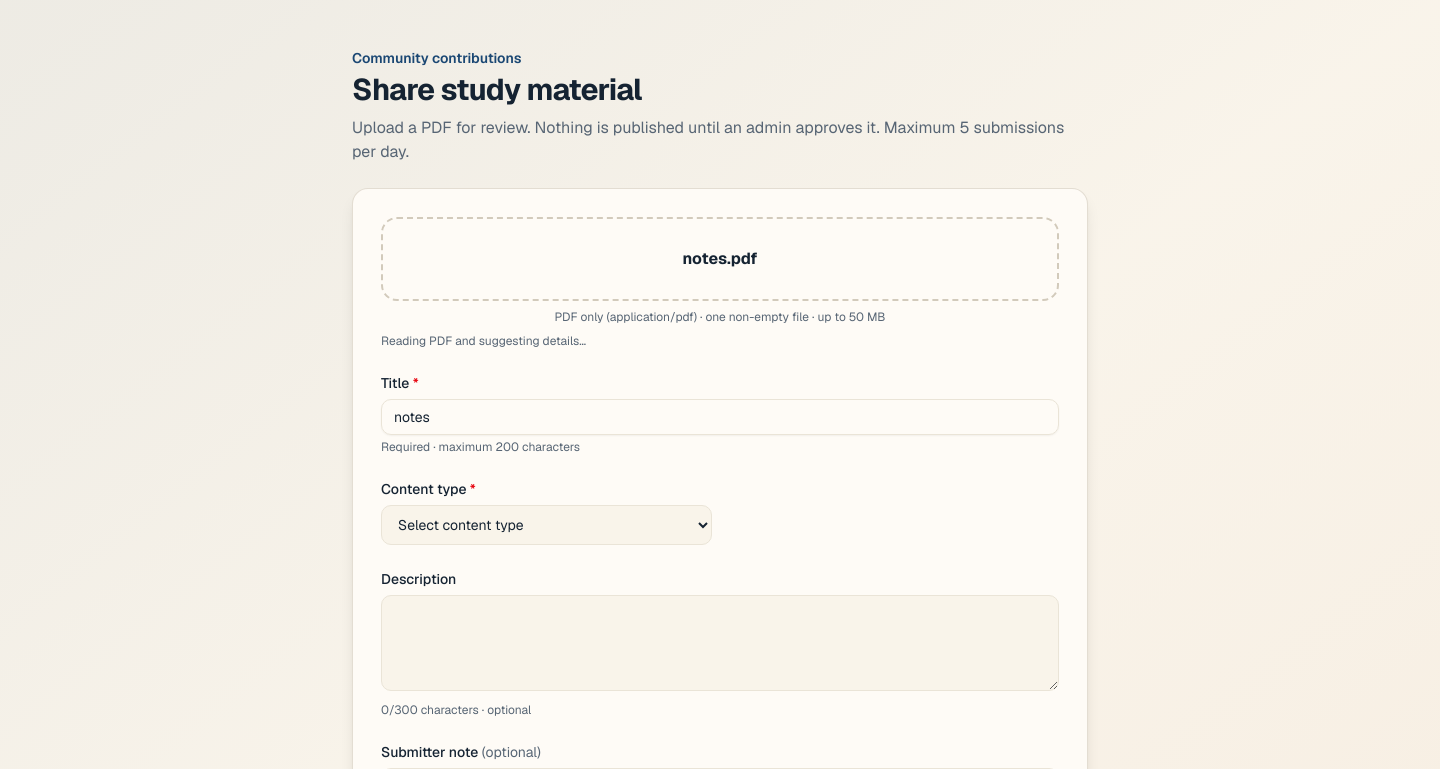
public PDF submission metadata › moves an ambiguous upload recovery 5xx to finalization retry
Earlier steps of the test are not shown.
Select "Exams" in the dropdown labelled "Content type *" at (546, 525), box left=381, top=505, right=712, bottom=545
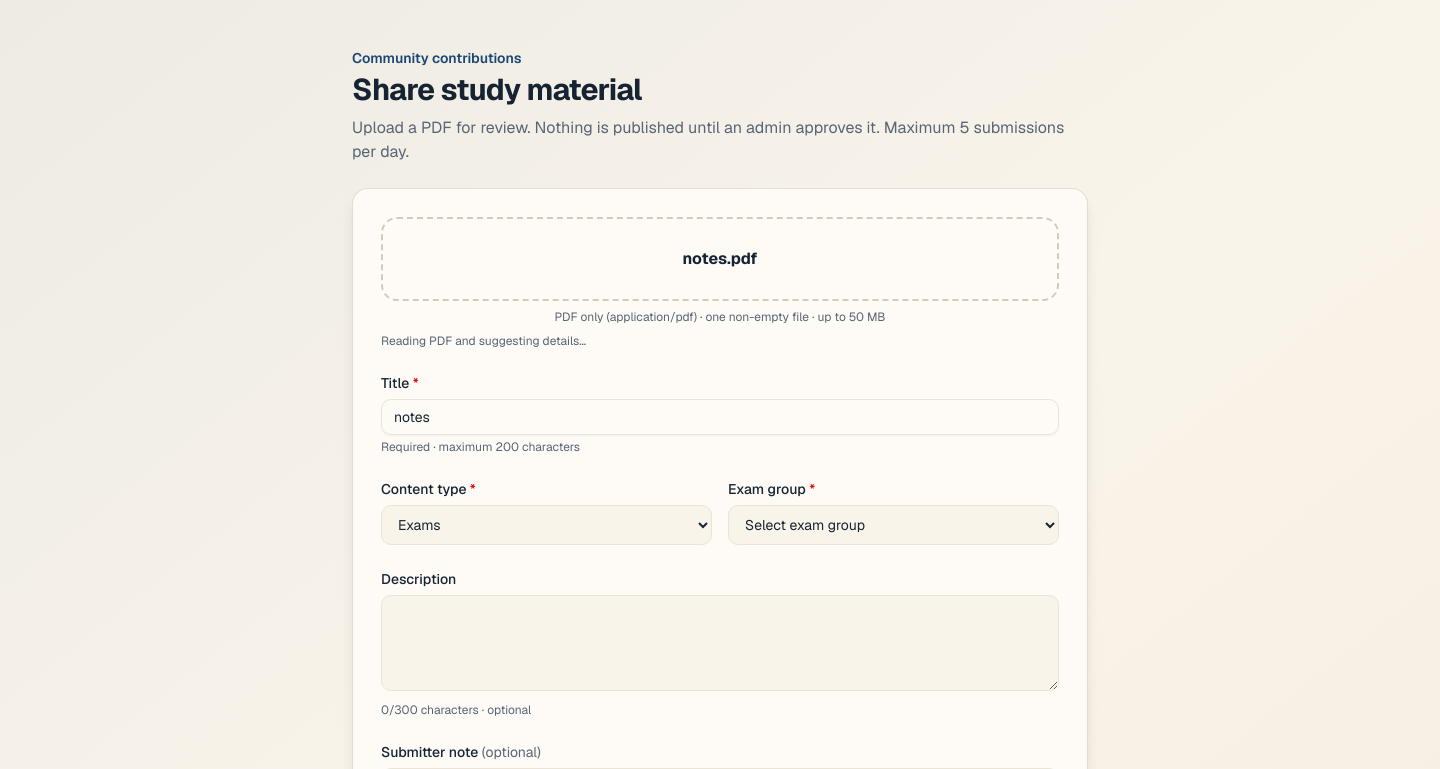
Select "SSC" in the dropdown labelled "Exam group *" at (894, 525), box left=728, top=505, right=1059, bottom=545
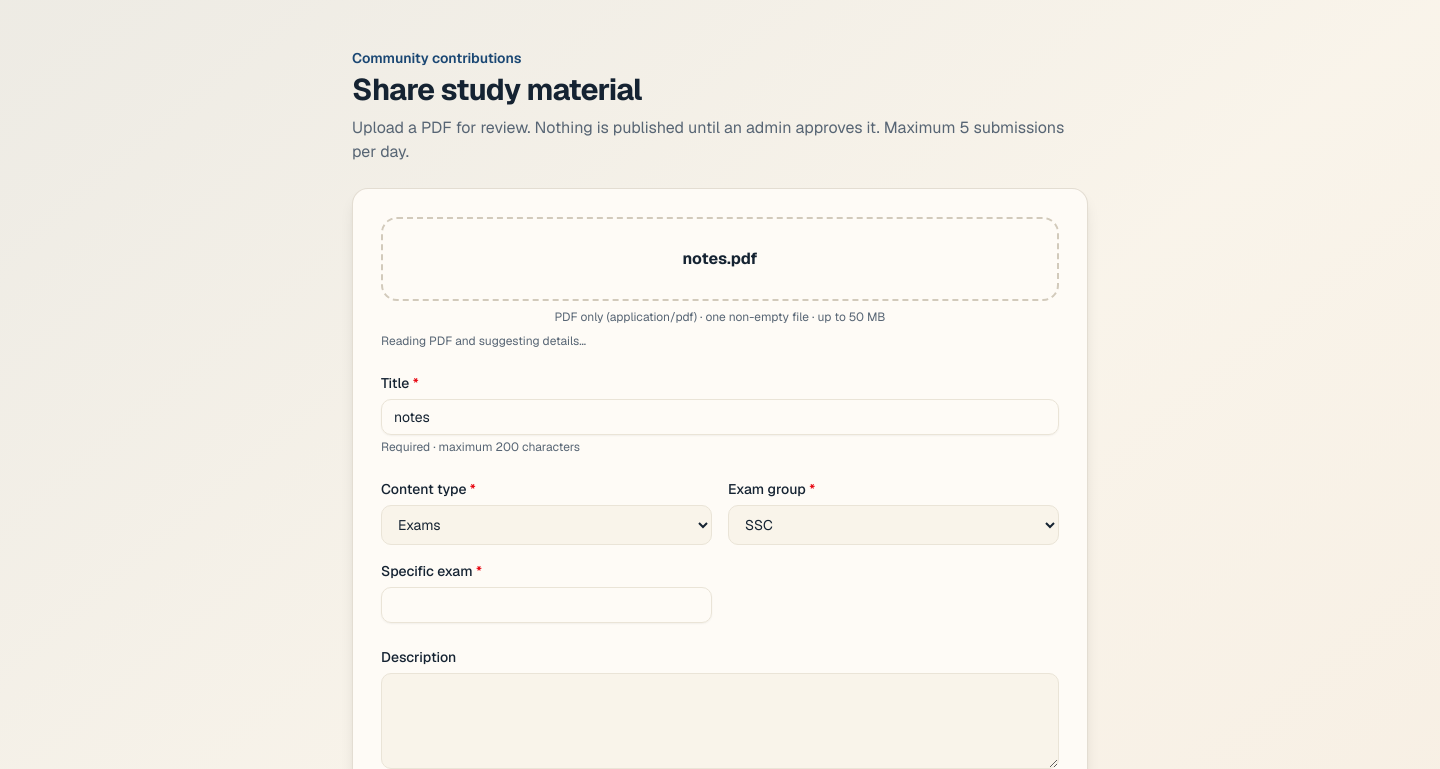
Type "SSC CGL" into the field labelled "Specific exam *" at (546, 605), box left=381, top=587, right=712, bottom=623
(page scrolled)
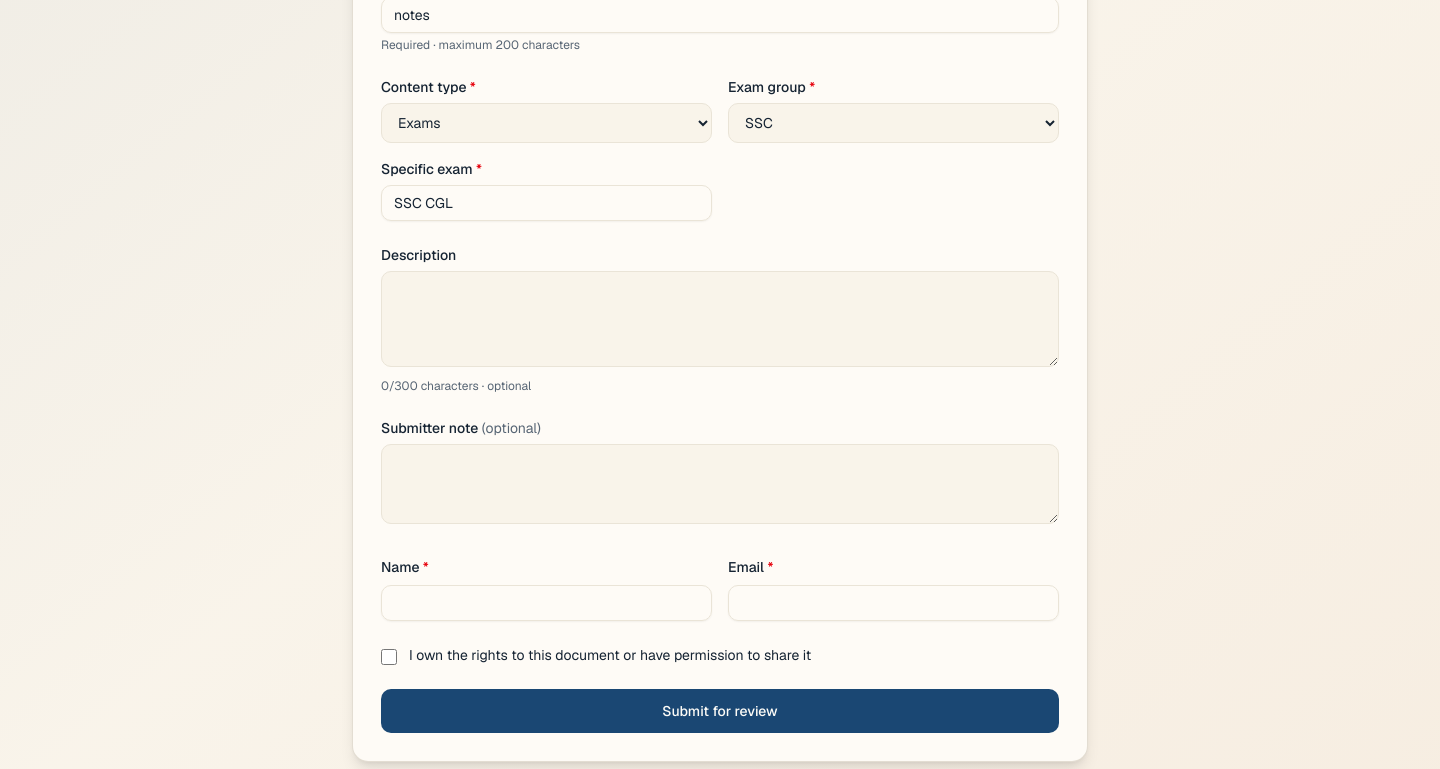
Type "Contributor" into the field labelled "Name *" at (546, 603), box left=381, top=585, right=712, bottom=621
Type "contributor@example.test" into the field labelled "Email *" at (894, 603), box left=728, top=585, right=1059, bottom=621
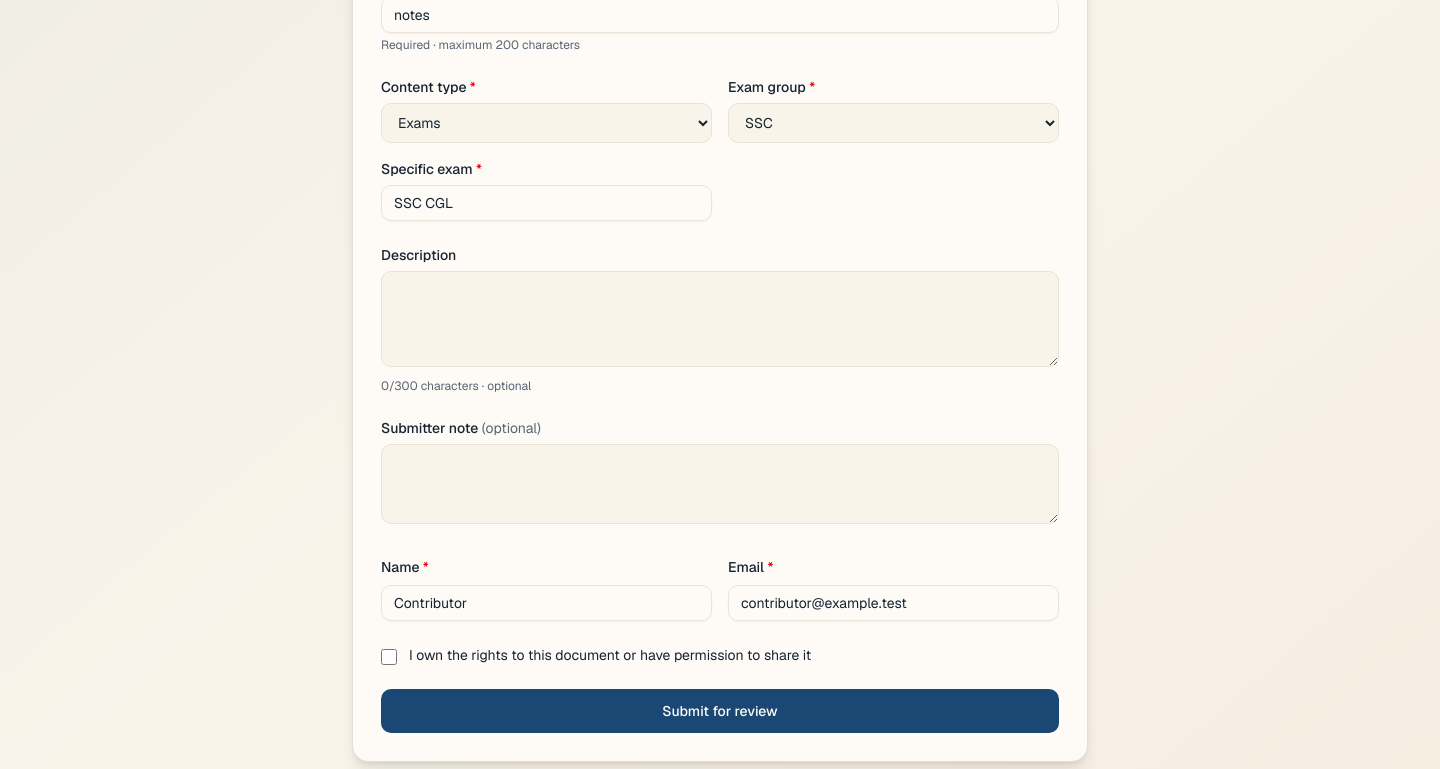
Click the checkbox labelled "I own the rights" at (389, 657), box left=381, top=649, right=397, bottom=665
(page scrolled)
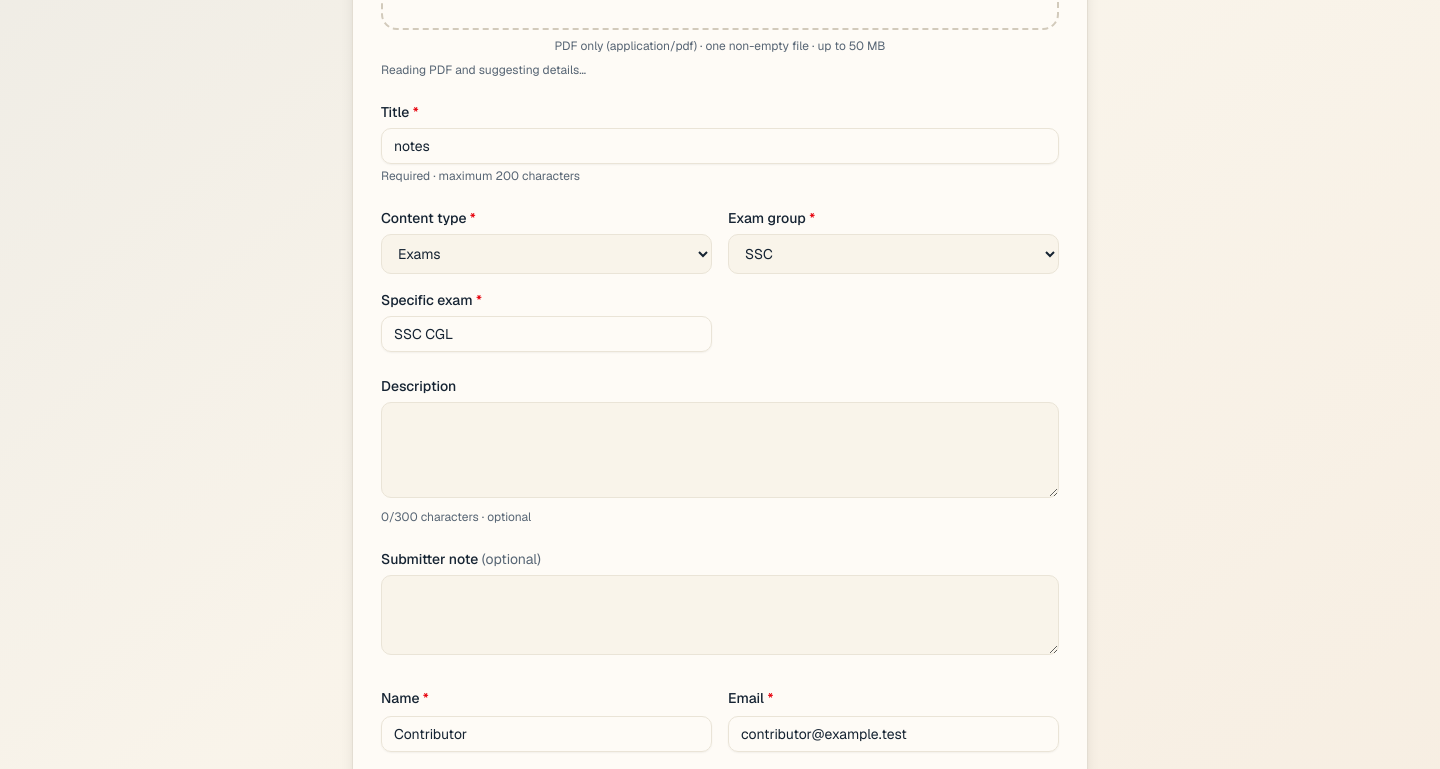
Submit the form named "Submit for review"
(page scrolled)
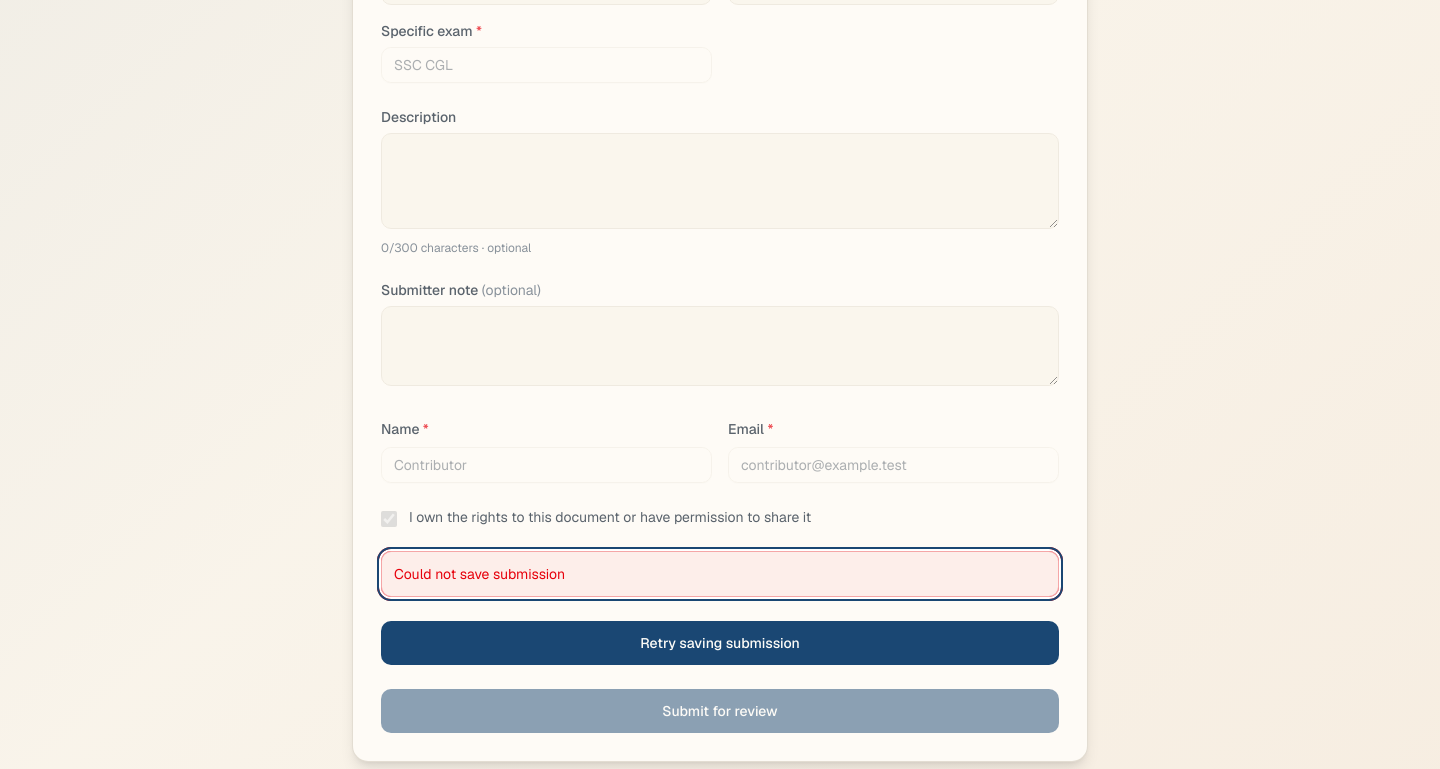
Now the button "Retry saving submission" is shown, box left=381, top=621, right=1059, bottom=665
